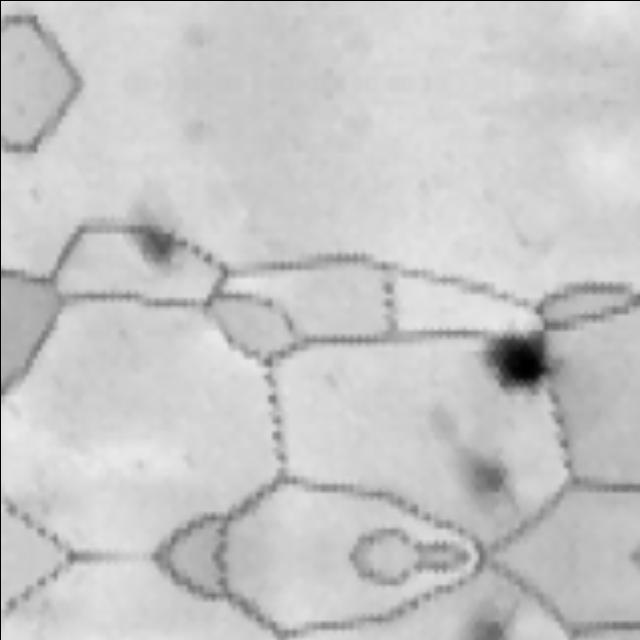good_void: (401, 385, 530, 542), (467, 317, 566, 408), (123, 209, 191, 276), (433, 594, 521, 640)
